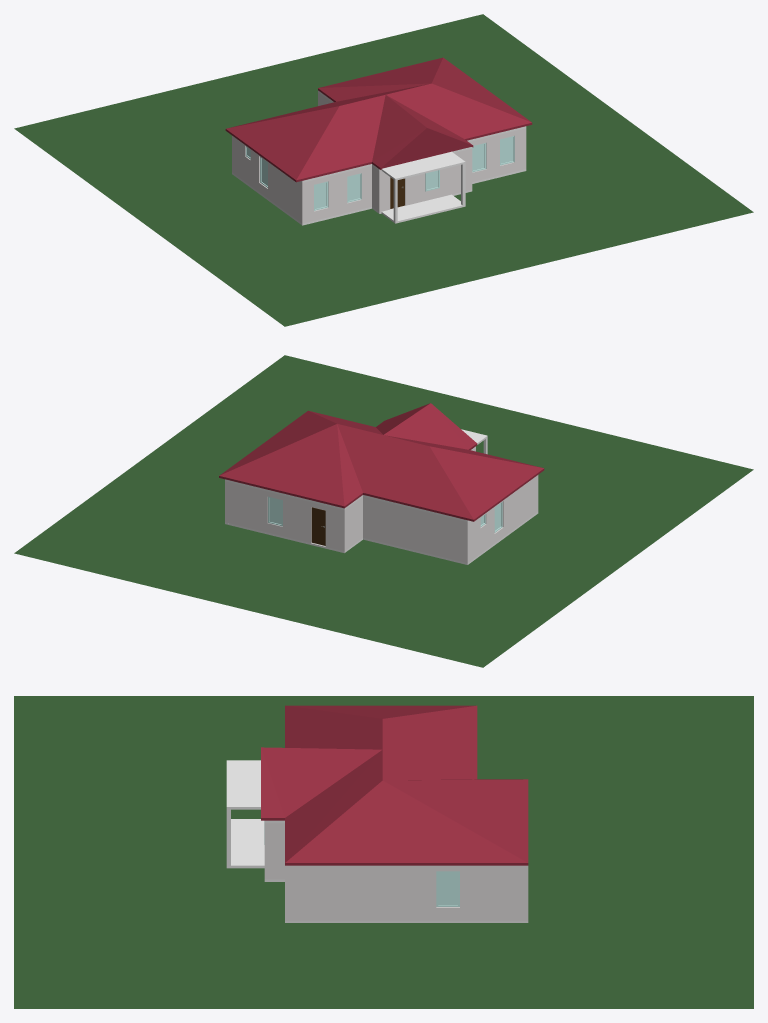
The model's file is house.fbx.
The picture shows the model from 3 angles, top to bottom: view 1: azimuth 30°, elevation 25°; view 2: azimuth 150°, elevation 25°; view 3: azimuth 270°, elevation 25°; orthographic projection. The views are drawn at different scales.
Visible parts, largest first — view 1: grass, roof_ceiling, house_ground_foor, caps, base_ceiling; view 2: grass, roof_ceiling, house_ground_foor, caps, base_ceiling, back_door; view 3: grass, roof_ceiling, house_ground_foor, base_ceiling, caps, window3.
Boxes of the visible parts, x1=… form: grass: x1=14, y1=14, x2=753, y2=326; roof_ceiling: x1=225, y1=57, x2=532, y2=182; house_ground_foor: x1=232, y1=92, x2=526, y2=223; caps: x1=301, y1=90, x2=526, y2=221; base_ceiling: x1=232, y1=169, x2=526, y2=225; grass: x1=14, y1=355, x2=753, y2=667; roof_ceiling: x1=219, y1=403, x2=544, y2=521; house_ground_foor: x1=225, y1=448, x2=538, y2=563; caps: x1=225, y1=429, x2=487, y2=521; base_ceiling: x1=225, y1=512, x2=538, y2=564; back_door: x1=311, y1=507, x2=325, y2=545; grass: x1=14, y1=696, x2=753, y2=1008; roof_ceiling: x1=261, y1=705, x2=528, y2=865; house_ground_foor: x1=264, y1=823, x2=528, y2=920; base_ceiling: x1=226, y1=819, x2=528, y2=922; caps: x1=226, y1=760, x2=284, y2=866; window3: x1=436, y1=871, x2=459, y2=906.
Bounding box in the file's own units: 3023 × 468 × 3023.
